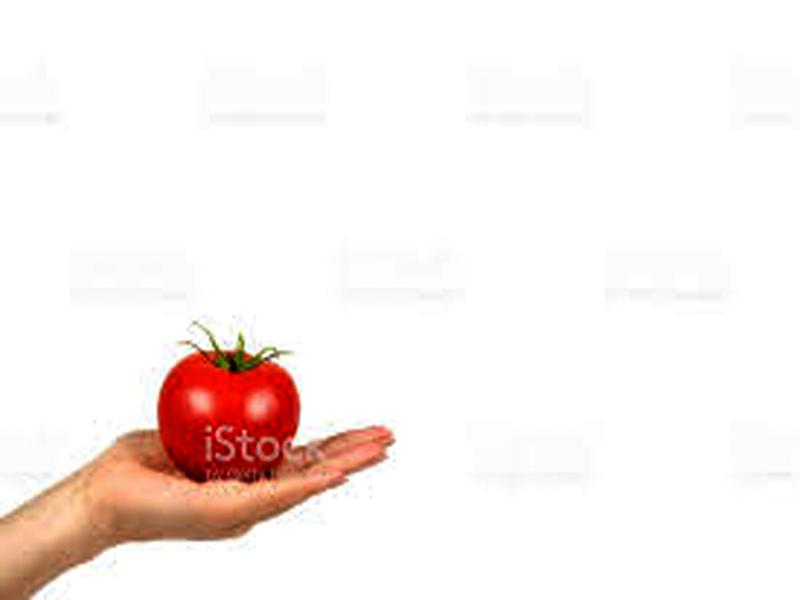Tomato: (157, 348, 297, 479)
